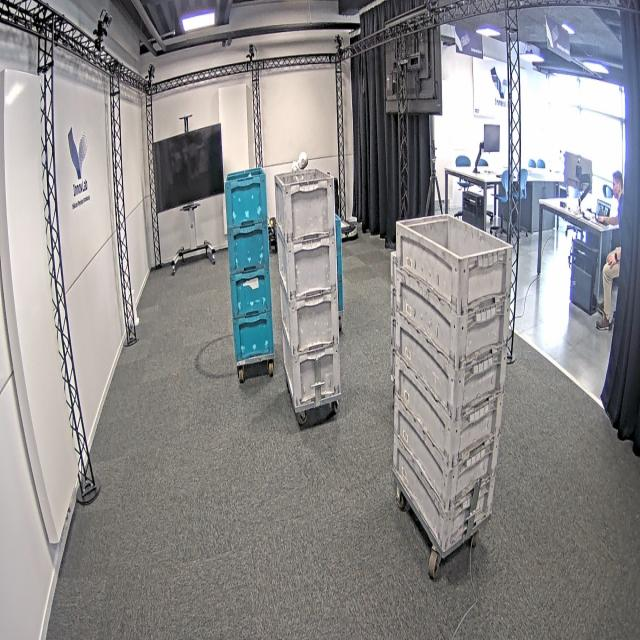Box3G: (395, 311, 510, 418), (393, 436, 495, 556), (395, 357, 503, 467), (396, 266, 512, 368), (395, 400, 497, 510), (398, 213, 510, 313)
Box4G: (281, 275, 342, 357), (274, 166, 337, 244), (284, 325, 343, 408), (280, 232, 340, 302)
BoxB4: (224, 168, 268, 229), (230, 310, 276, 361), (227, 222, 270, 274), (231, 268, 273, 320)
